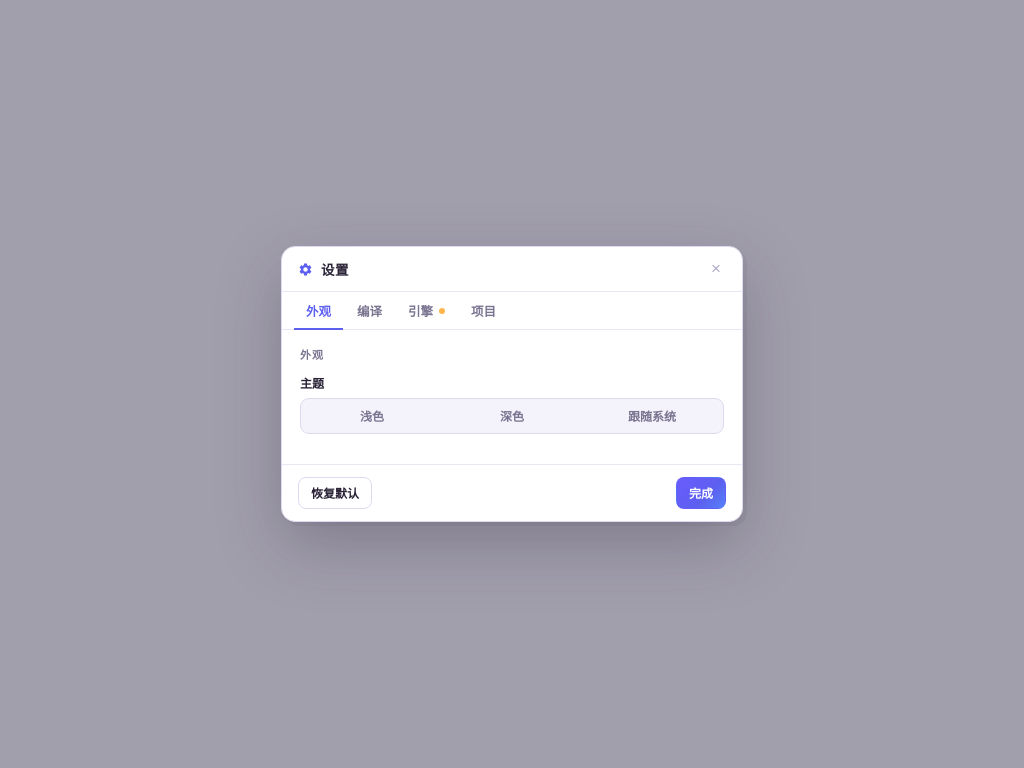
Test: SettingsPanel：引擎不是 Tectonic 时的「存了但不生效」提示 › 存过库内嵌而引擎是 XeLaTeX ⇒ 提示出现并点名是哪几项
Click the tab with class "tab-btn" showing "引擎": x=426, y=311 [396,292,457,330]
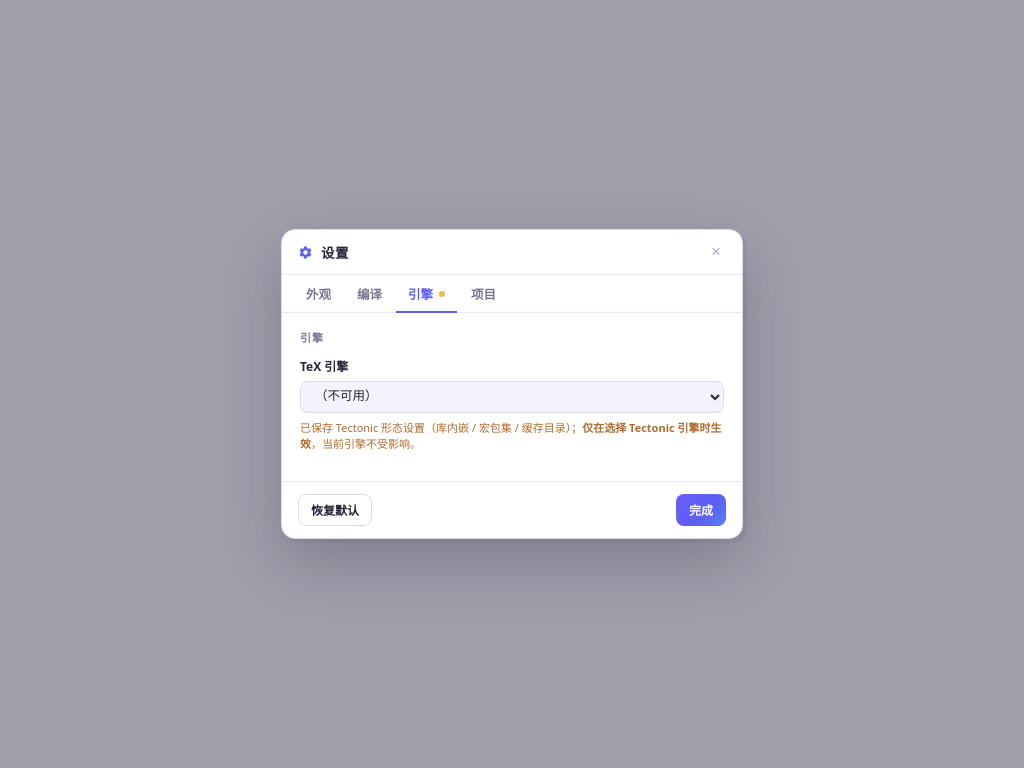
expect the element with class "warn" is shown: met, box [300,419,724,451]
expect the element with class "warn" shows "库内嵌": met, box [300,420,582,435]
expect the element with class "warn" shows "仅在选择 Tectonic 引擎时生效": met, box [300,420,722,451]
